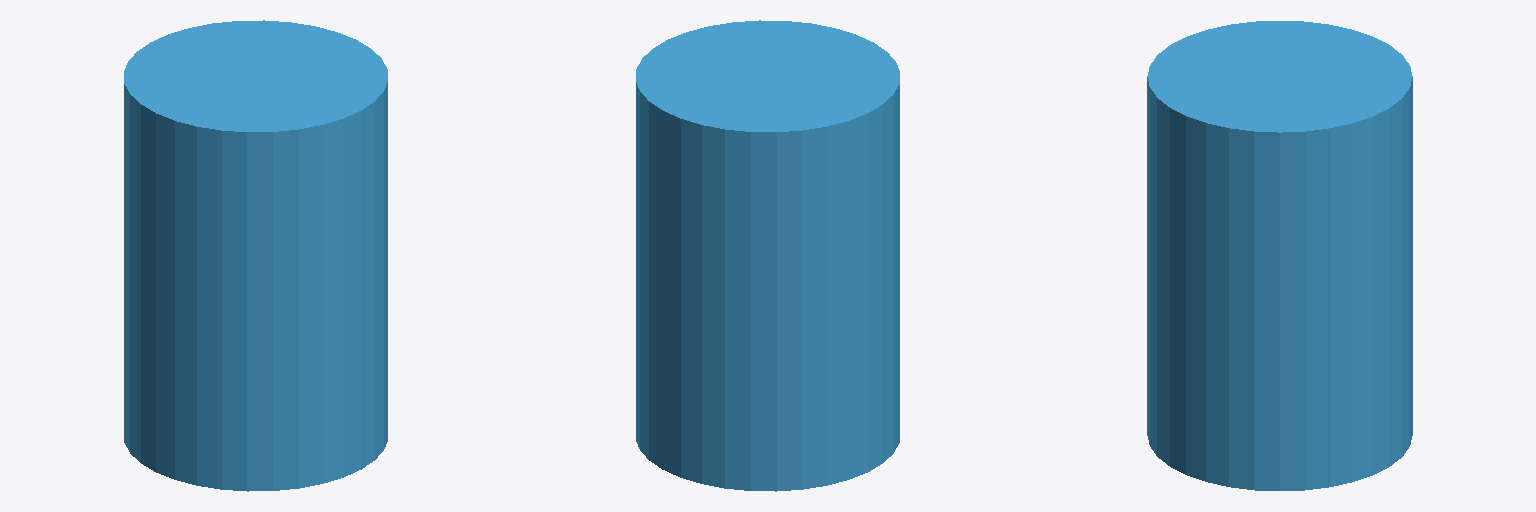
The robot description file, URDF, robot "can":
<?xml version="1.0" ?>
<robot name="can">
	<link name="can_pose"/>
	<link name="can">
		<visual>
			<origin xyz = "0 0 0"/>
			<geometry>
				<mesh filename="package://objects_description/can/can.obj" />
			</geometry>
		</visual>
		<collision>
			<origin xyz="0 0 0"/>
			<geometry>
				<mesh filename="package://objects_description/can/can.obj" />
			</geometry>
		</collision>
		<inertial>
			<mass value="0.5"/>
			<inertia ixx="0.0" ixy="0.0" ixz="0.0" iyy="0.0" iyz="0.0" izz="0.04" />
		</inertial>
	</link>
	<joint name="joint_0" type="fixed">
		<origin rpy="0 0 0" xyz="0 0 0"/>
		<child link="can_pose"/>
		<parent link="can"/>
	</joint>
</robot>

--- Facts derived from the render (not from the file) ---
3 views of the same robot in one strip: view 1: azimuth 30°, elevation 25°; view 2: azimuth 150°, elevation 25°; view 3: azimuth 270°, elevation 25° (orthographic).
Robot: can — 2 links, 1 joints (1 fixed); root link can; default pose: all joints at 0.
Visible links, largest first — view 1: can; view 2: can; view 3: can.
Boxes of the visible links, x1,y1,x2,y2 form: can: (124, 20, 387, 491); can: (636, 20, 899, 491); can: (1147, 21, 1412, 490).
Bounding box of the posed robot: 0.075 × 0.075 × 0.112 m (x, y, z).
1 mesh visuals loaded from 1 distinct referenced files (1 OBJ).